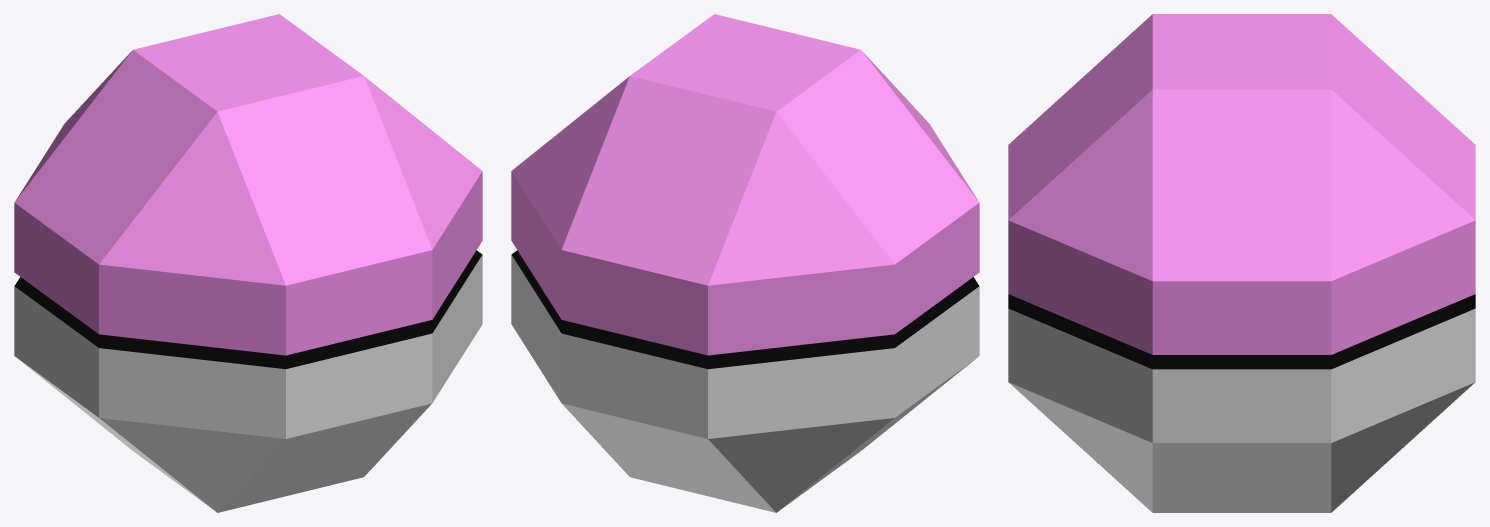
Rendered from gayball.fbx.
3 views of the same model, side by side, from view 1: azimuth 30°, elevation 25°; view 2: azimuth 150°, elevation 25°; view 3: azimuth 270°, elevation 25° (orthographic). The views are drawn at different scales.
Visible parts, largest first — view 1: Cube.006; view 2: Cube.006; view 3: Cube.006.
Boxes of the visible parts, x1,y1,x2,y2 form: Cube.006: (14,14,482,512); Cube.006: (511,14,979,512); Cube.006: (1008,14,1475,512).
Bounding box in the file's own units: 200 × 200 × 200.
